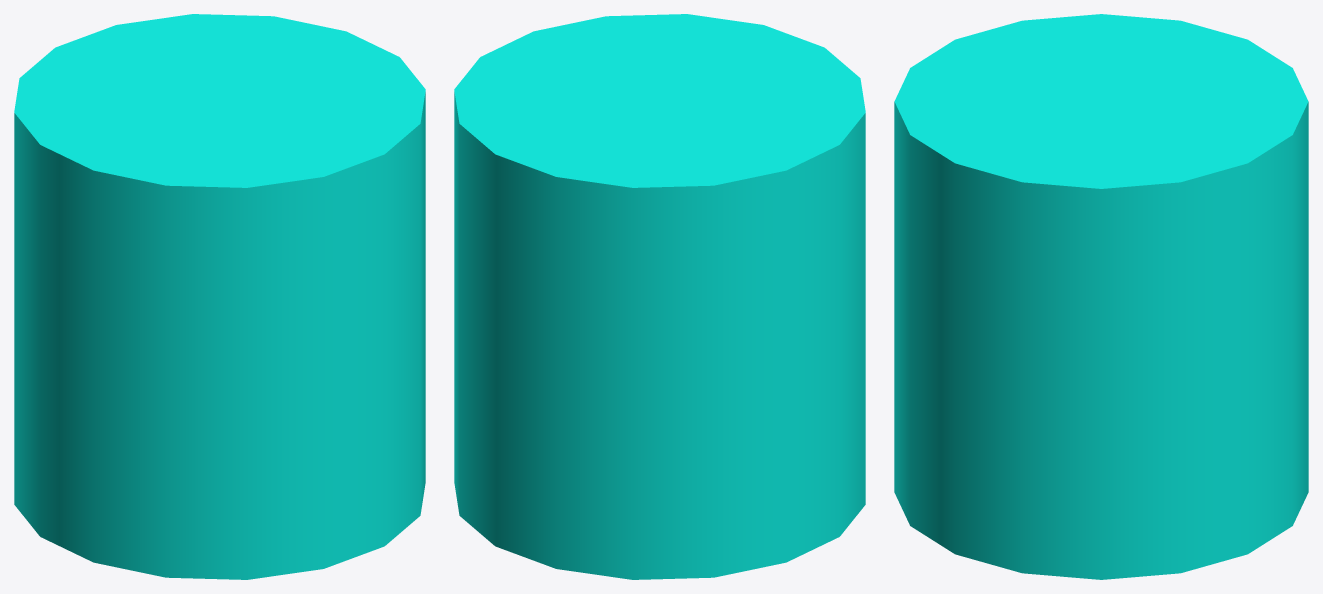
The model's file is SM_RocketHolder.fbx.
3 views of the same model, side by side, from view 1: azimuth 30°, elevation 25°; view 2: azimuth 150°, elevation 25°; view 3: azimuth 270°, elevation 25° (orthographic).
Visible parts, largest first — view 1: RocketHolder; view 2: RocketHolder; view 3: RocketHolder.
Boxes of the visible parts, box(x1,y1,x2,y2) form: RocketHolder: box(14, 14, 425, 579); RocketHolder: box(454, 14, 865, 579); RocketHolder: box(894, 14, 1308, 579).
Bounding box in the file's own units: 0.4469 × 0.4656 × 0.4469.
1 material, 1 textured.
